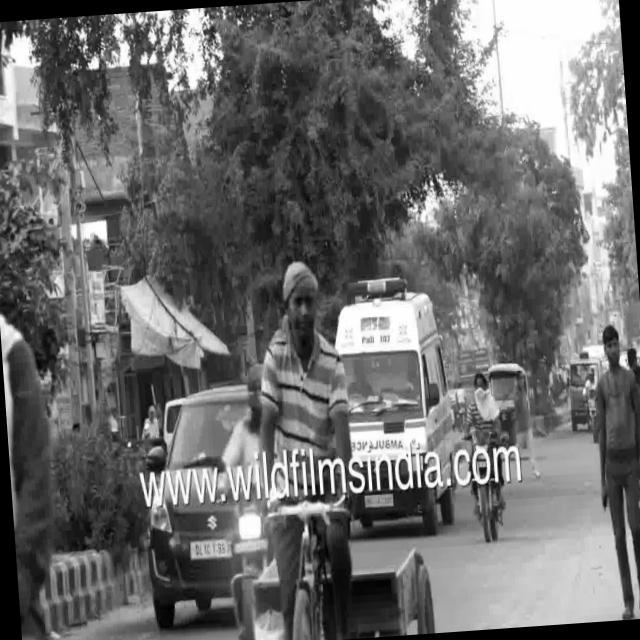ambulance: (326, 241, 461, 544)
